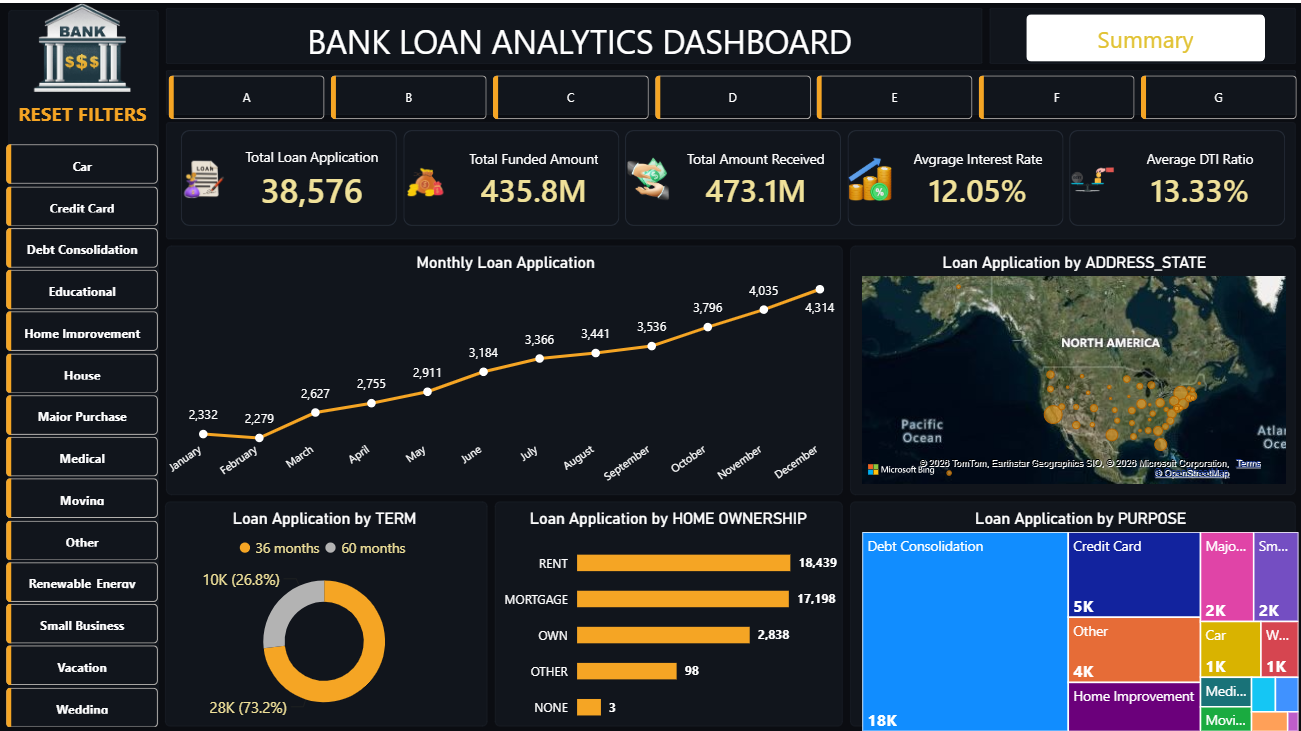

The dashboard page shown, as its layout file describes it:
{"tool":"powerbi","page":{"name":"Overview","canvas":[1280,720],"ordinal":1},"visuals":[{"type":"cardVisual","fields":{"Data":["financial_loan.Total Loan Application","financial_loan.Total Funded Amount","financial_loan.Total Amount Received","financial_loan.Avg Int Rate","financial_loan.Avg DTI Rate"]},"box":[160.7,108,1119,128.8],"z":0},{"type":"image","box":[1.2,0,159.5,87.1],"z":1000},{"type":"advancedSlicerVisual","fields":{"Values":["financial_loan.PURPOSE"]},"box":[1.2,133.7,159.5,586.5],"z":2000},{"type":"advancedSlicerVisual","fields":{"Values":["financial_loan.GRADE"]},"box":[160.7,66.3,1119,54],"z":3000},{"type":"actionButton","box":[8.6,93.3,144.8,29.4],"z":4000},{"type":"textbox","box":[255.2,11,627,55.2],"z":5000},{"type":"actionButton","box":[1007.4,11,234.4,46.6],"z":6000},{"type":"lineChart","title":"Monthly Loan Application","fields":{"Y":["_Measures.Total Loan Application"],"Category":["financial_loan.ISSUE_DATE.Variation.Date Hierarchy.Month"]},"box":[160.7,245.4,666.3,231.9],"z":7000},{"type":"donutChart","title":"Loan Application by TERM","fields":{"Category":["financial_loan.TERM"],"Y":["_Measures.Total Loan Application"]},"box":[160.7,496.9,315.3,212.3],"z":8000},{"type":"clusteredBarChart","title":"Loan Application by HOME OWNERSHIP","fields":{"Y":["_Measures.Total Loan Application"],"Category":["financial_loan.HOME_OWNERSHIP"]},"box":[484.7,496.9,342.3,223.3],"z":9000},{"type":"treemap","title":"Loan Application by PURPOSE","fields":{"Group":["financial_loan.PURPOSE"],"Values":["_Measures.Total Loan Application"]},"box":[841.7,496.9,438,223.3],"z":10000},{"type":"map","title":"Loan Application by ADDRESS_STATE","fields":{"Category":["financial_loan.ADDRESS_STATE"],"Size":["_Measures.Total Loan Application"]},"box":[841.7,245.4,425.8,231.9],"z":11000}]}

Visuals, with their boxes in screenshot pixels (x1, y1, x2, y2), scaled from the page's 1280x720 canvas onto the 1301x731 screenshot:
cardVisual - financial_loan.Total Loan Application x financial_loan.Total Funded Amount: detection(163, 110, 1300, 240)
image: detection(1, 0, 163, 88)
advancedSlicerVisual - financial_loan.PURPOSE: detection(1, 136, 163, 730)
advancedSlicerVisual - financial_loan.GRADE: detection(163, 67, 1300, 122)
actionButton: detection(9, 95, 156, 125)
textbox: detection(259, 11, 897, 67)
actionButton: detection(1024, 11, 1262, 58)
"Monthly Loan Application" lineChart: detection(163, 249, 841, 485)
"Loan Application by TERM" donutChart: detection(163, 504, 484, 720)
"Loan Application by HOME OWNERSHIP" clusteredBarChart: detection(493, 504, 841, 730)
"Loan Application by PURPOSE" treemap: detection(856, 504, 1300, 730)
"Loan Application by ADDRESS_STATE" map: detection(856, 249, 1288, 485)
